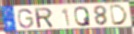1: (61, 8, 71, 27)
8: (93, 5, 109, 27)
D: (109, 4, 129, 26)
G: (17, 8, 34, 29)
Q: (73, 5, 92, 27)
R: (34, 7, 55, 29)
